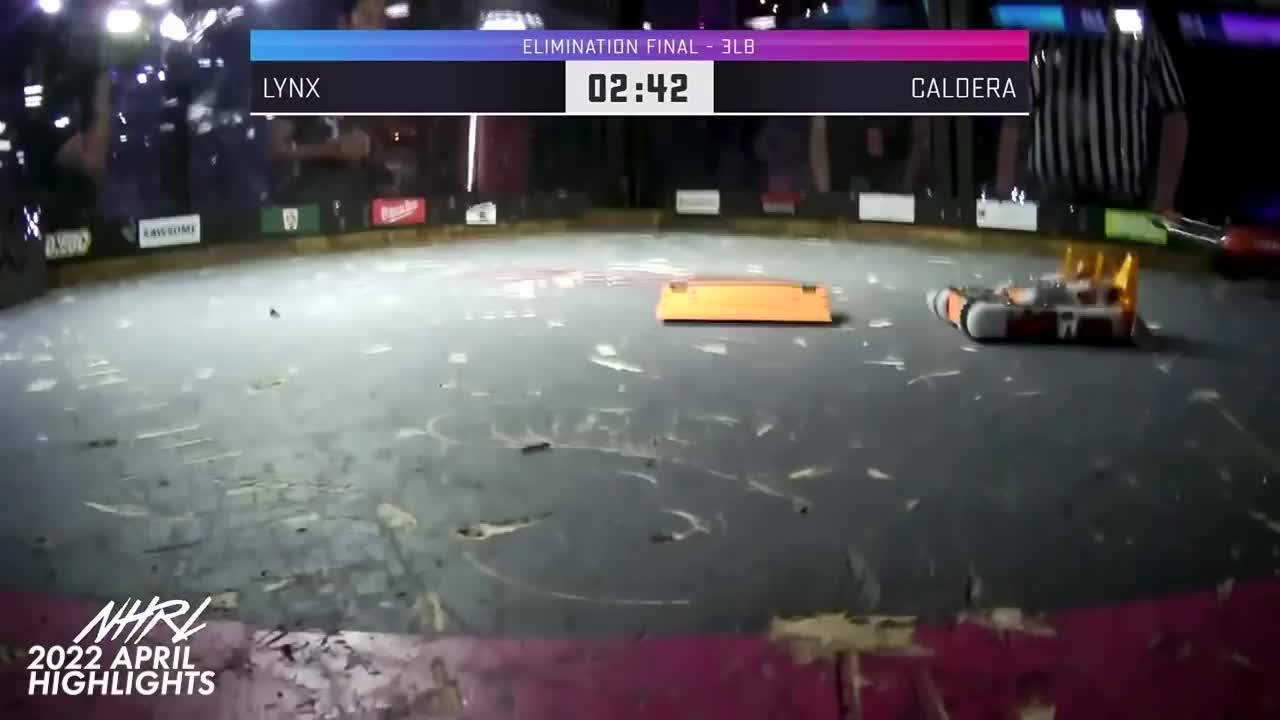combatbot: (932, 272, 1173, 353), (657, 277, 832, 324)
housebot: (0, 176, 48, 323)
